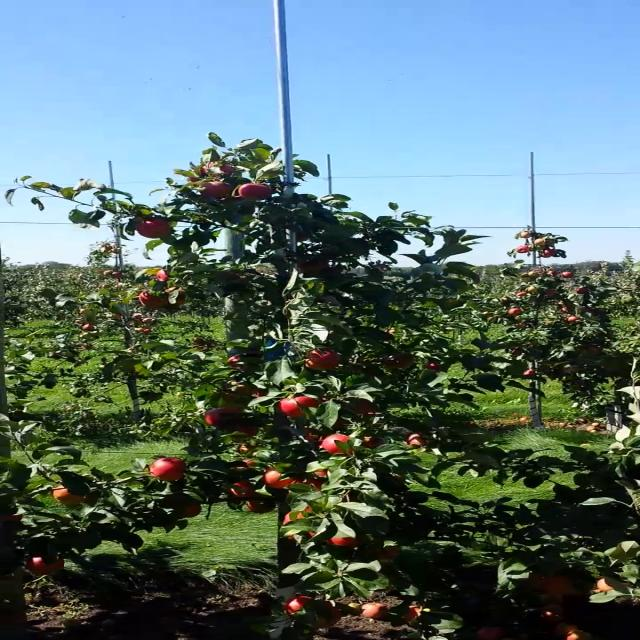apple: (150, 457, 190, 483), (308, 601, 342, 629), (276, 395, 319, 416), (284, 596, 318, 622), (534, 576, 582, 594), (264, 468, 303, 490), (303, 349, 341, 370), (202, 409, 245, 427), (25, 556, 63, 576), (134, 218, 170, 239), (137, 290, 173, 308), (53, 485, 87, 503), (197, 182, 234, 198), (236, 184, 272, 200), (322, 434, 350, 454), (294, 259, 330, 273), (200, 163, 235, 177), (383, 352, 413, 368), (404, 606, 426, 624), (228, 483, 256, 497), (246, 501, 275, 514), (165, 286, 187, 302), (227, 353, 245, 371), (180, 504, 202, 518), (227, 381, 249, 395), (360, 399, 377, 417), (283, 510, 304, 524), (305, 428, 324, 442), (238, 425, 260, 437), (597, 578, 615, 592), (361, 437, 382, 449), (298, 479, 322, 489), (327, 538, 357, 546), (408, 433, 426, 445), (250, 385, 268, 397), (236, 460, 256, 470), (287, 532, 315, 539), (334, 417, 351, 428), (383, 547, 401, 557), (4, 512, 22, 522), (157, 269, 169, 283), (239, 444, 253, 454), (315, 470, 328, 478), (424, 362, 437, 370), (186, 176, 199, 182)
